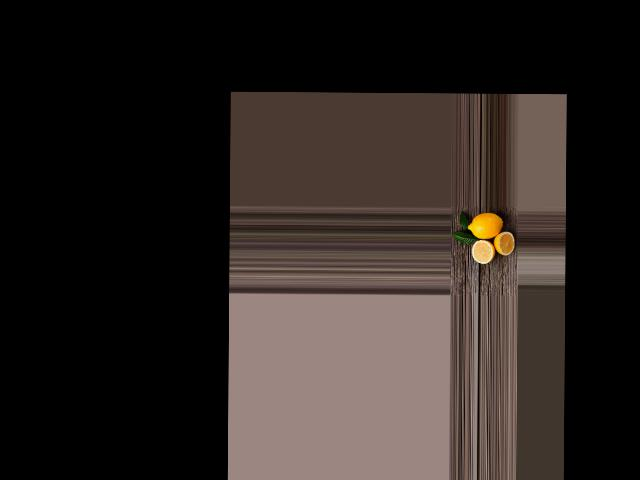lemon: (464, 214, 502, 241)
